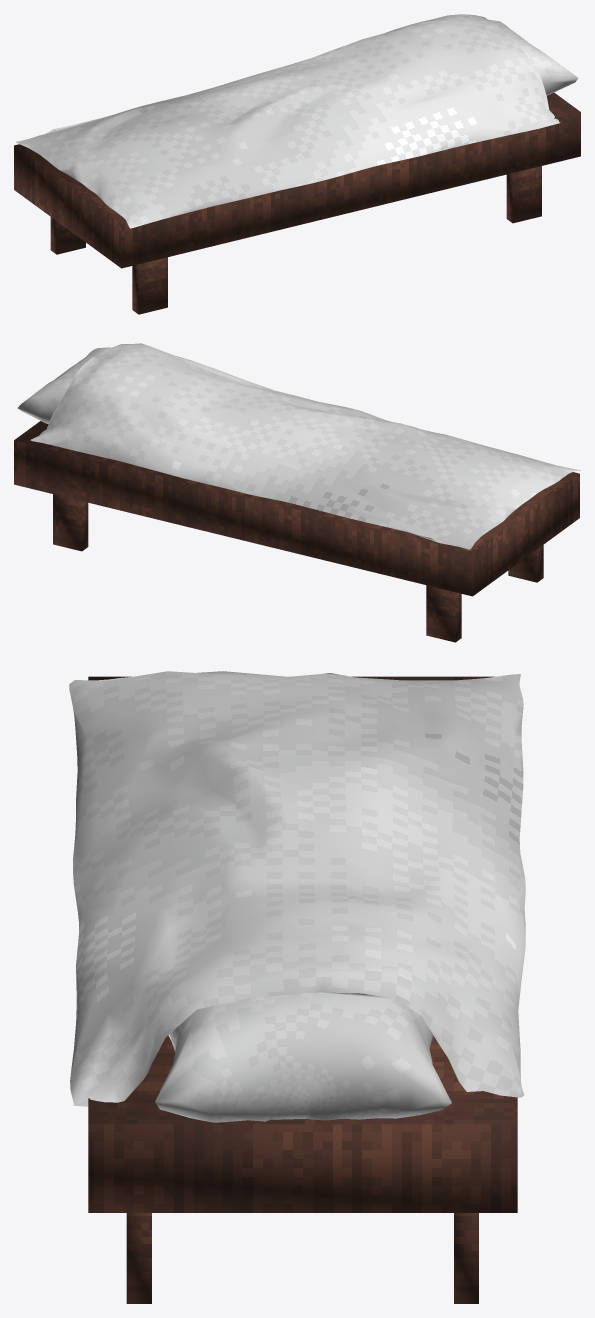
The model's file is bed_edit2.fbx.
3 renders of one model, top to bottom at view 1: azimuth 30°, elevation 25°; view 2: azimuth 150°, elevation 25°; view 3: azimuth 270°, elevation 25°, orthographic. The views are drawn at different scales.
Parts seen in each view (by area): view 1: blanket3, Bed, Bedpost_2, pillow; view 2: blanket3, Bed, Bedpost_2, pillow; view 3: blanket3, Bed, pillow, Bedpost_2.
Part boxes in pixels (x1=…): blanket3: x1=16, y1=14, x2=560, y2=228; Bed: x1=14, y1=92, x2=580, y2=268; Bedpost_2: x1=50, y1=166, x2=541, y2=314; pillow: x1=488, y1=19, x2=578, y2=95; blanket3: x1=30, y1=343, x2=580, y2=549; Bed: x1=14, y1=421, x2=579, y2=596; Bedpost_2: x1=53, y1=494, x2=543, y2=642; pillow: x1=17, y1=347, x2=110, y2=423; blanket3: x1=69, y1=671, x2=525, y2=1106; Bed: x1=88, y1=676, x2=517, y2=1212; pillow: x1=155, y1=992, x2=451, y2=1122; Bedpost_2: x1=126, y1=1213, x2=478, y2=1303.
Size of the model in its own units: 307 by 98.91 by 128.
